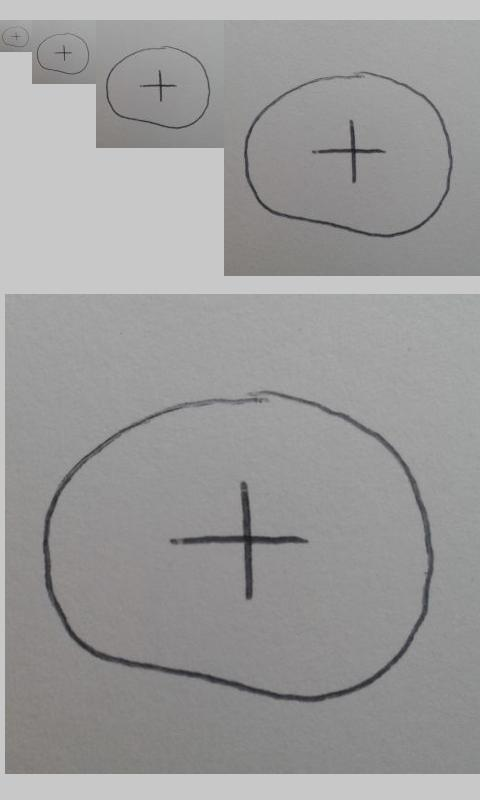button: (41, 387, 439, 705), (243, 70, 455, 239), (105, 45, 211, 129), (36, 32, 90, 75), (1, 26, 30, 48)
